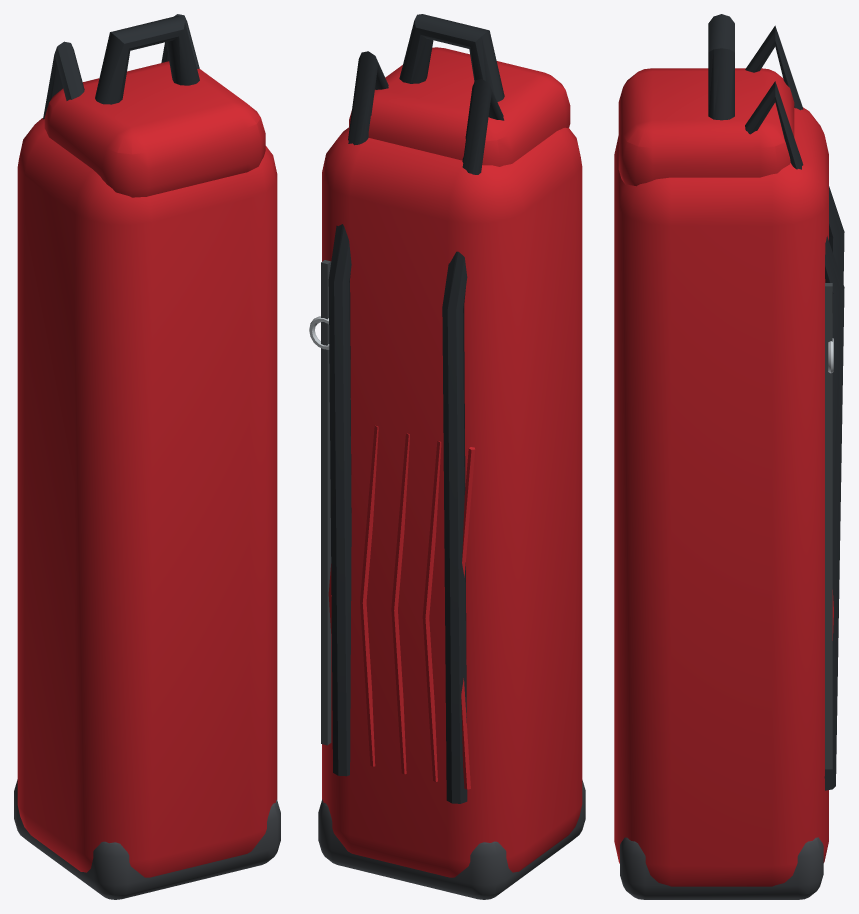
The model's file is long_red_bag.glb.
3 renders of one model, left to right at view 1: azimuth 30°, elevation 25°; view 2: azimuth 150°, elevation 25°; view 3: azimuth 270°, elevation 25°, orthographic.
Parts seen in each view (by area): view 1: long_red_bag; view 2: long_red_bag; view 3: long_red_bag.
Part boxes in pixels (bbox=[...]): long_red_bag: bbox=[14, 14, 280, 899]; long_red_bag: bbox=[309, 14, 585, 899]; long_red_bag: bbox=[614, 14, 844, 899].
Bounding box in the file's own units: 0.1571 × 0.6403 × 0.1592.
